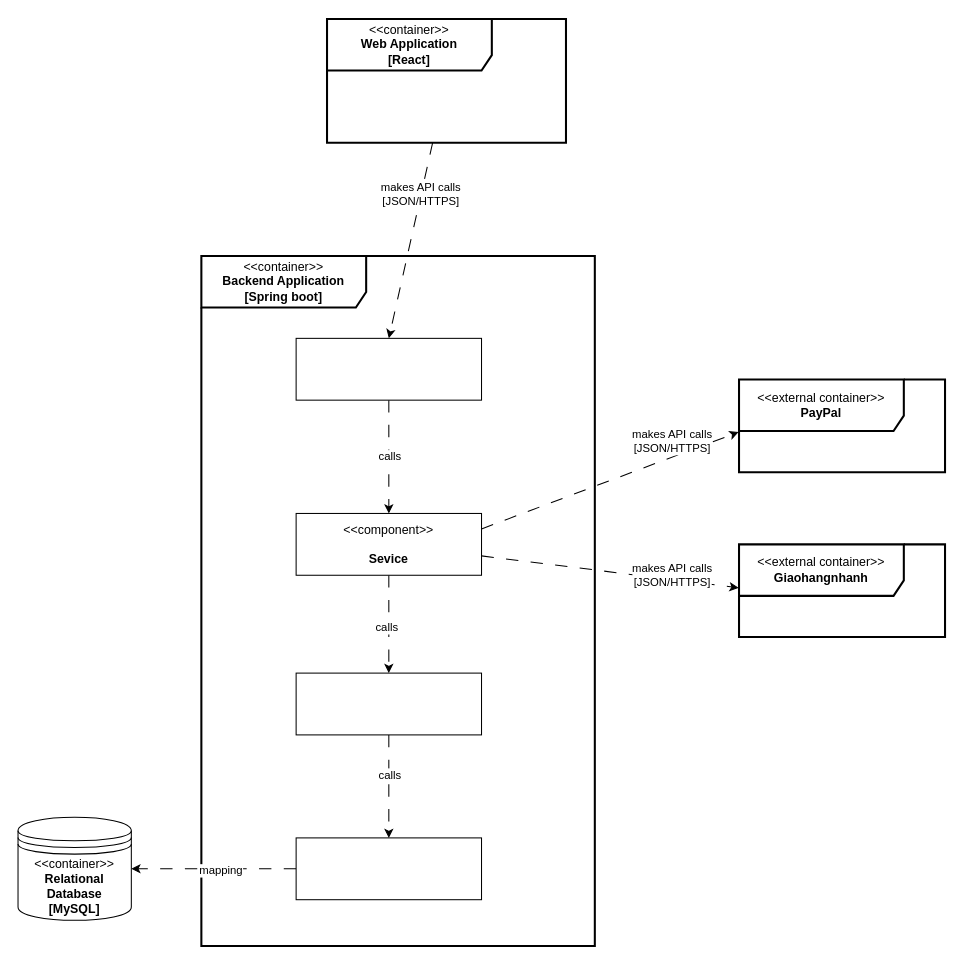
This 964x964 diagram has some shape labels left out. Here are the shapes that lost their labels. From the top down, the centre of each, then its label:
At point 388,368: "<<component>> Controller".
At point 388,703: "<<component>> Repository".
At point 388,868: "<<component>> Entity".
